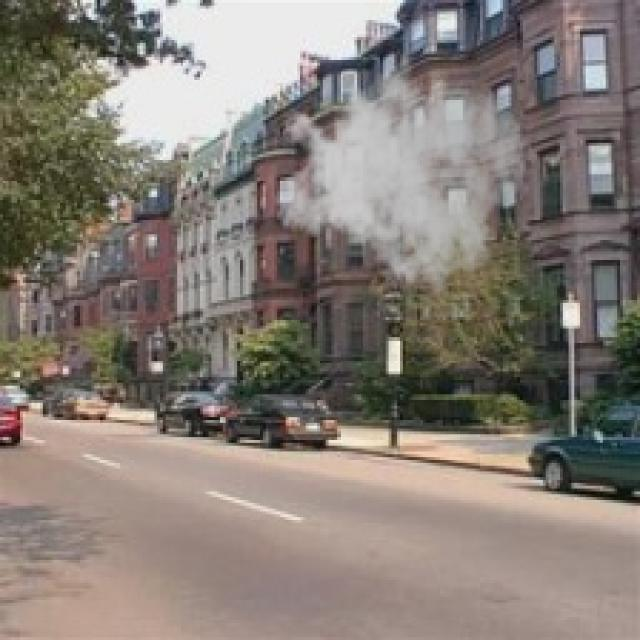Smoke: (274, 39, 529, 294)
